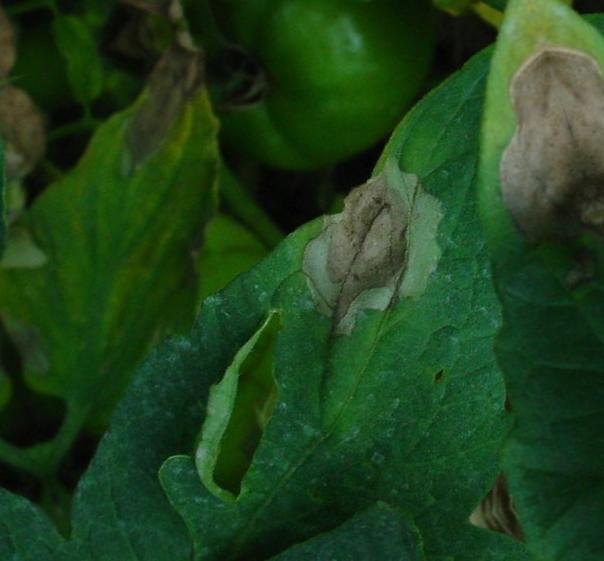Tomato leaf late blight: (0, 92, 601, 561)
